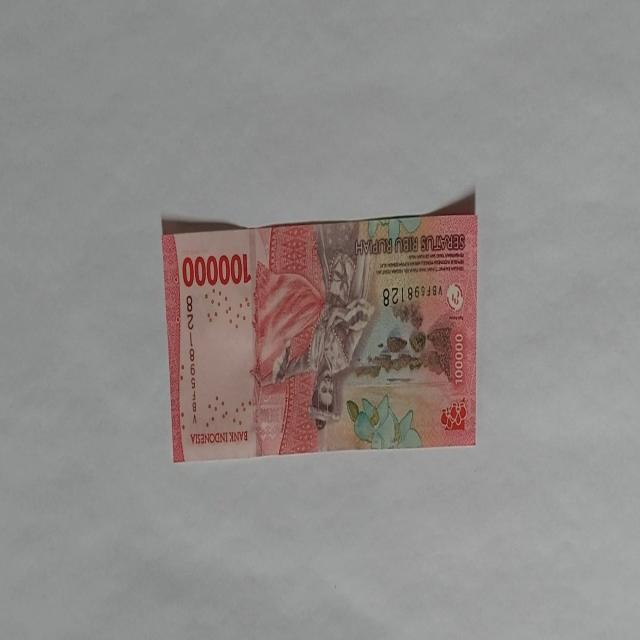seratus ribu rupiah: (161, 213, 478, 462), (260, 231, 376, 427)
